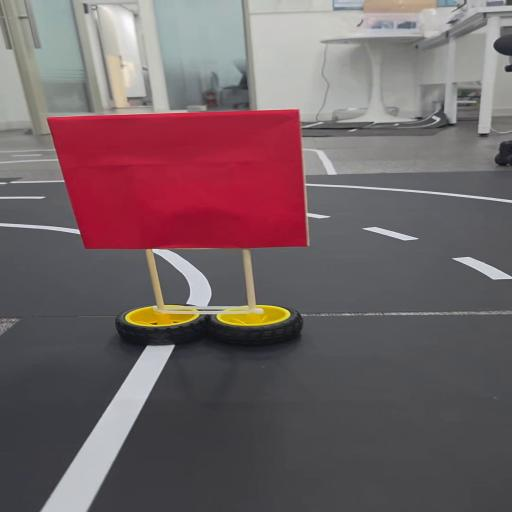Sign_A: (41, 105, 337, 351)
